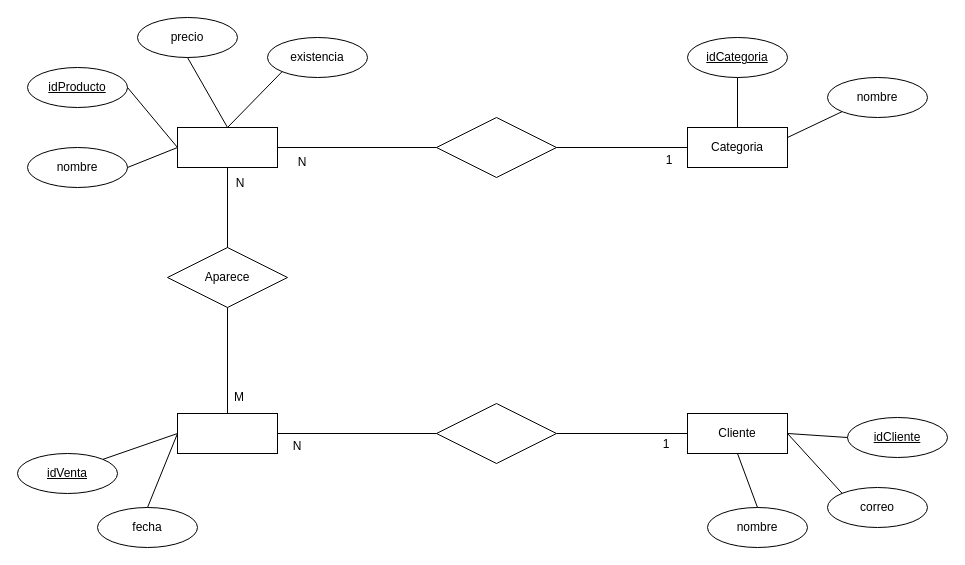
The diagram is 965 pixels wide and 565 high, and some of its shapes have lost their labels. Here are the shapes that lost their labels. From the top down, the centre of each, then its label:
the point at 227,147: Producto
the point at 496,147: Tiene
the point at 227,433: Venta
the point at 496,433: Realiza
